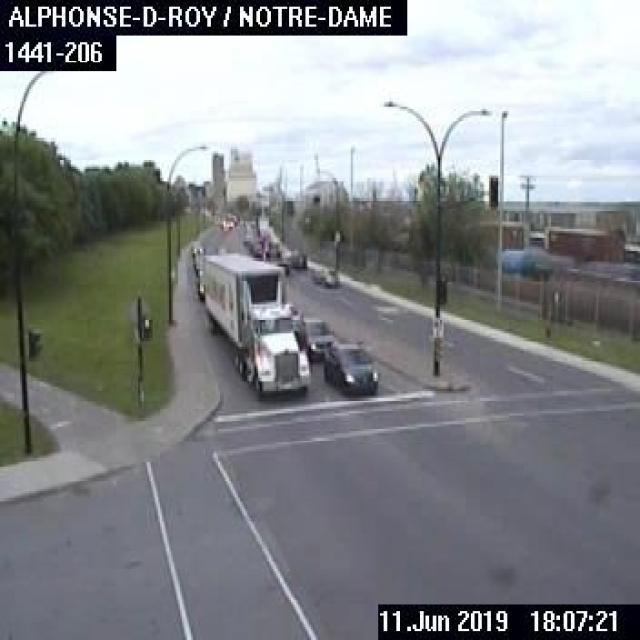vehicle: (196, 248, 310, 398), (317, 336, 381, 396), (300, 316, 336, 361), (278, 243, 308, 270), (313, 263, 337, 288), (216, 209, 233, 231)
